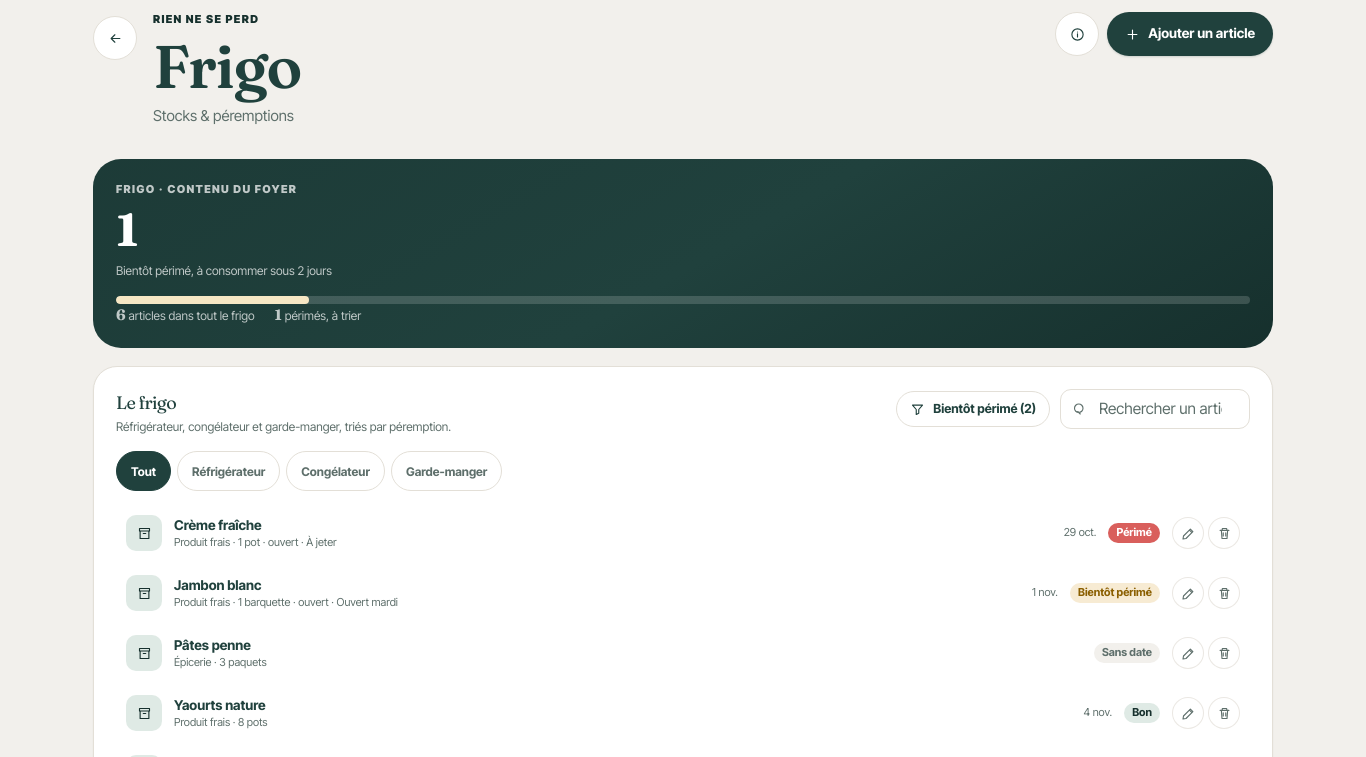
it: FrigoPage › le filtre « bientôt périmé » ne montre que le urgent
Expected: the text "Yaourts nature" is shown, [174,697,266,713]
Click the button "Bientôt périmé (2)" at {"x": 973, "y": 409}, box [896,391,1050,427]
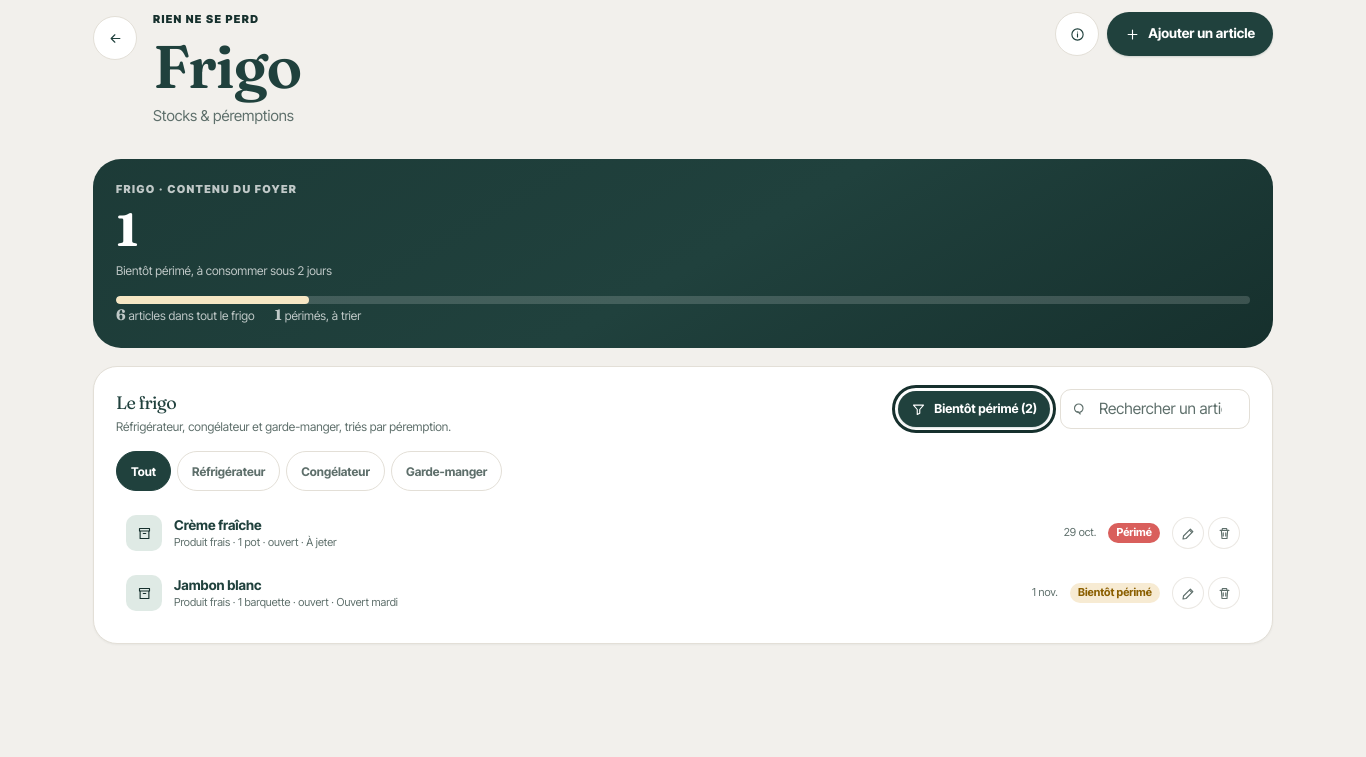
Expected: the text "Crème fraîche" is shown, [174,517,262,533]
Expected: the text "Yaourts nature" is gone
Expected: the text "Pâtes penne" is gone
